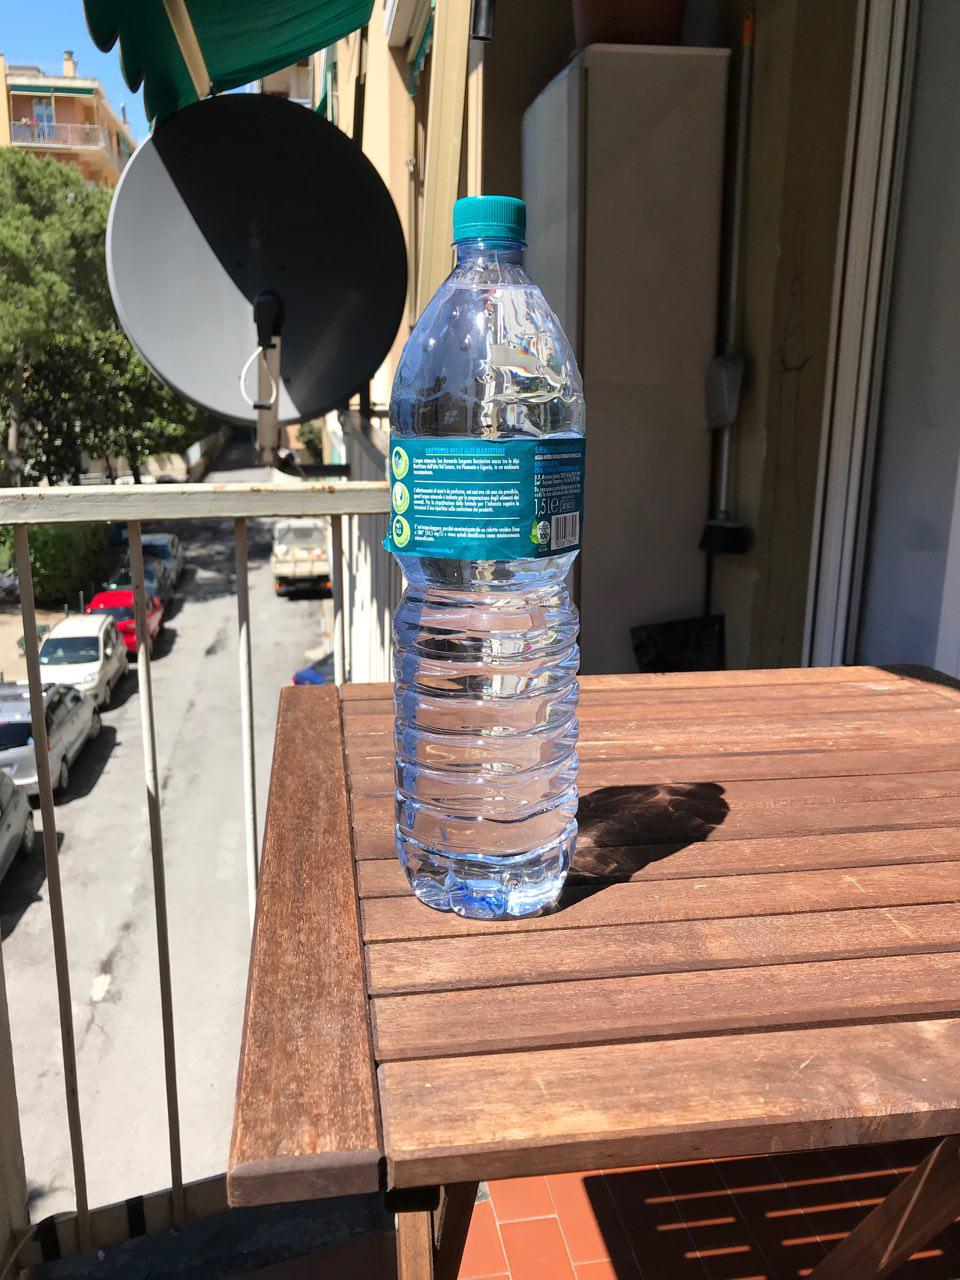san_bernardo: (388, 193, 587, 918)
